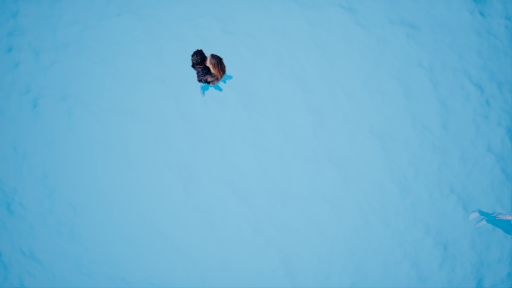person: (193, 49, 233, 102), (467, 208, 512, 240)
